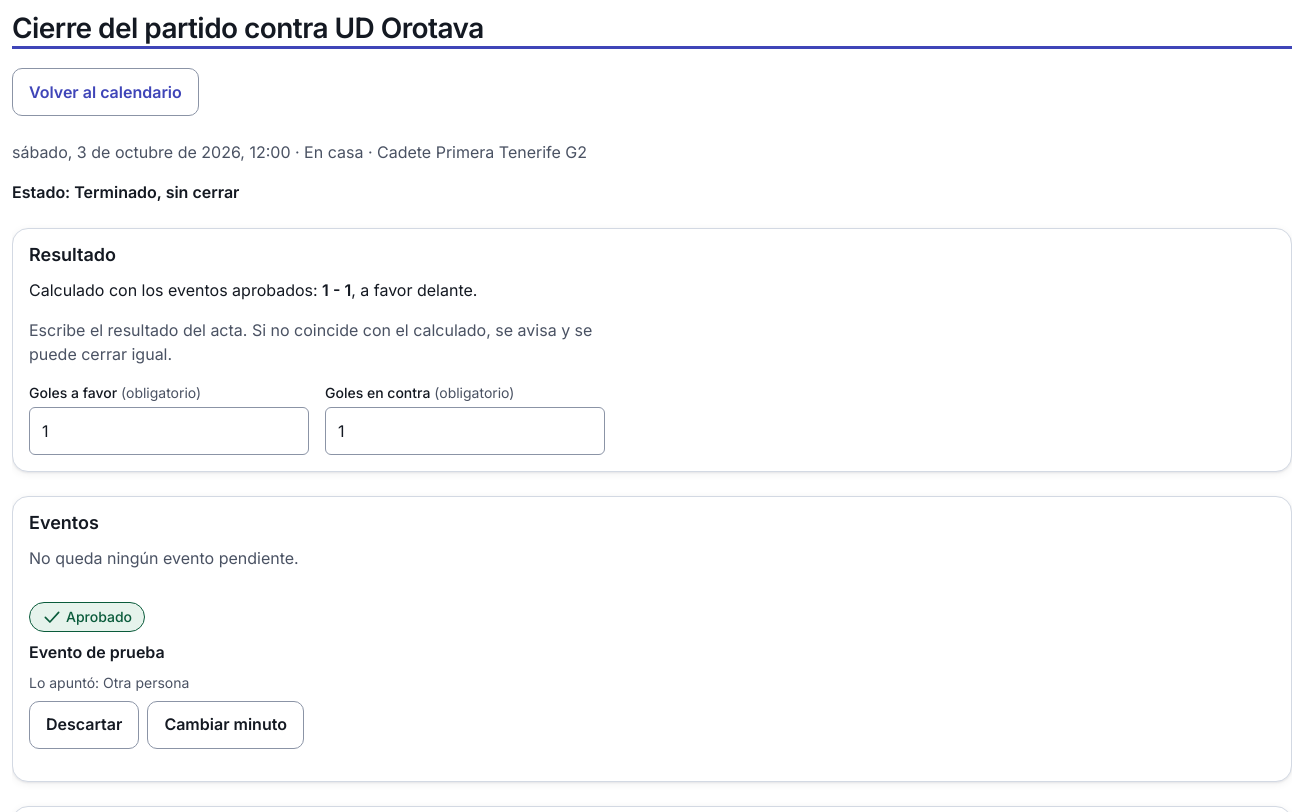
A13 · Panel de eventos (T-210b) › «Descartar» y luego «Recuperar» sobre el mismo evento
Step 1. Click the button with aria-label "Descartar: " → point(84, 725), box 29,701 -> 139,749
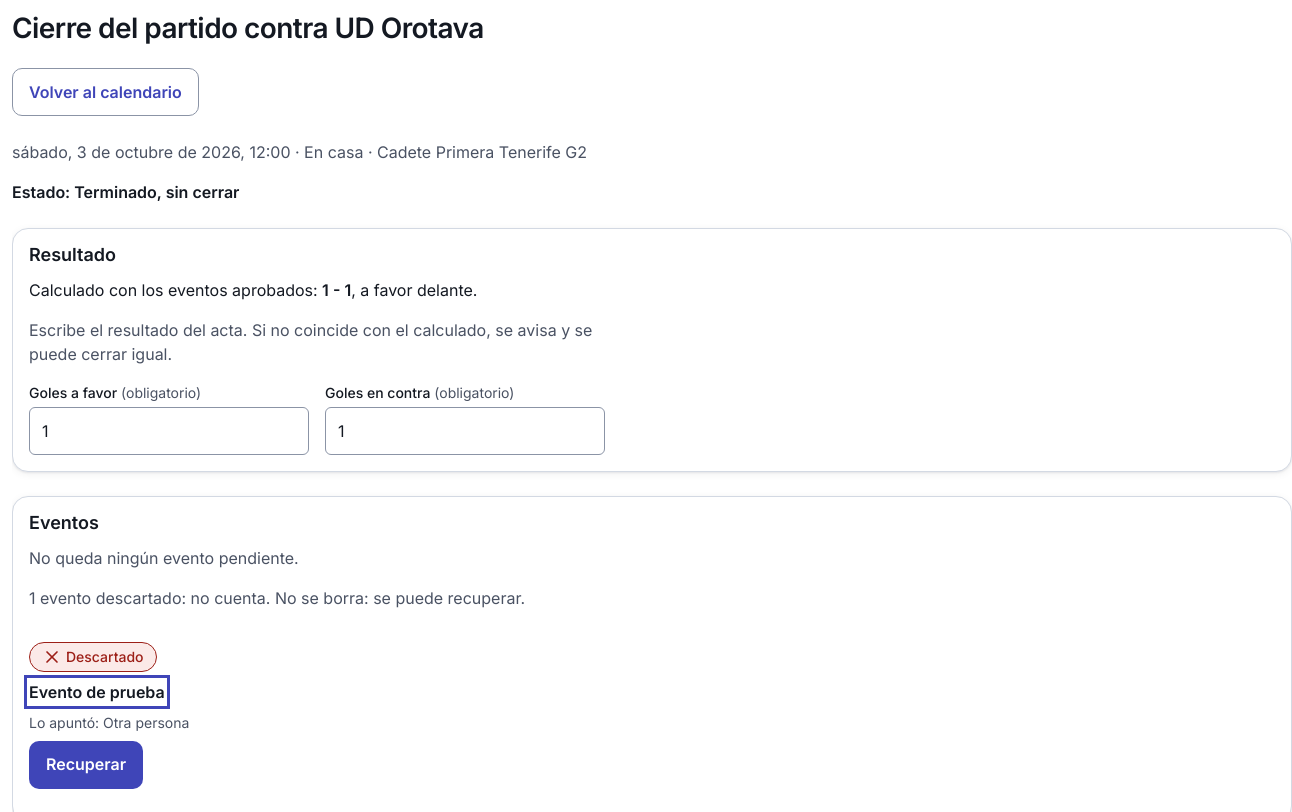
Check: the button with aria-label "Recuperar: " is shown
Check: the button with aria-label "Recuperar: " is enabled
Step 2. Click the button with aria-label "Recuperar: " → point(86, 765), box 29,741 -> 143,789
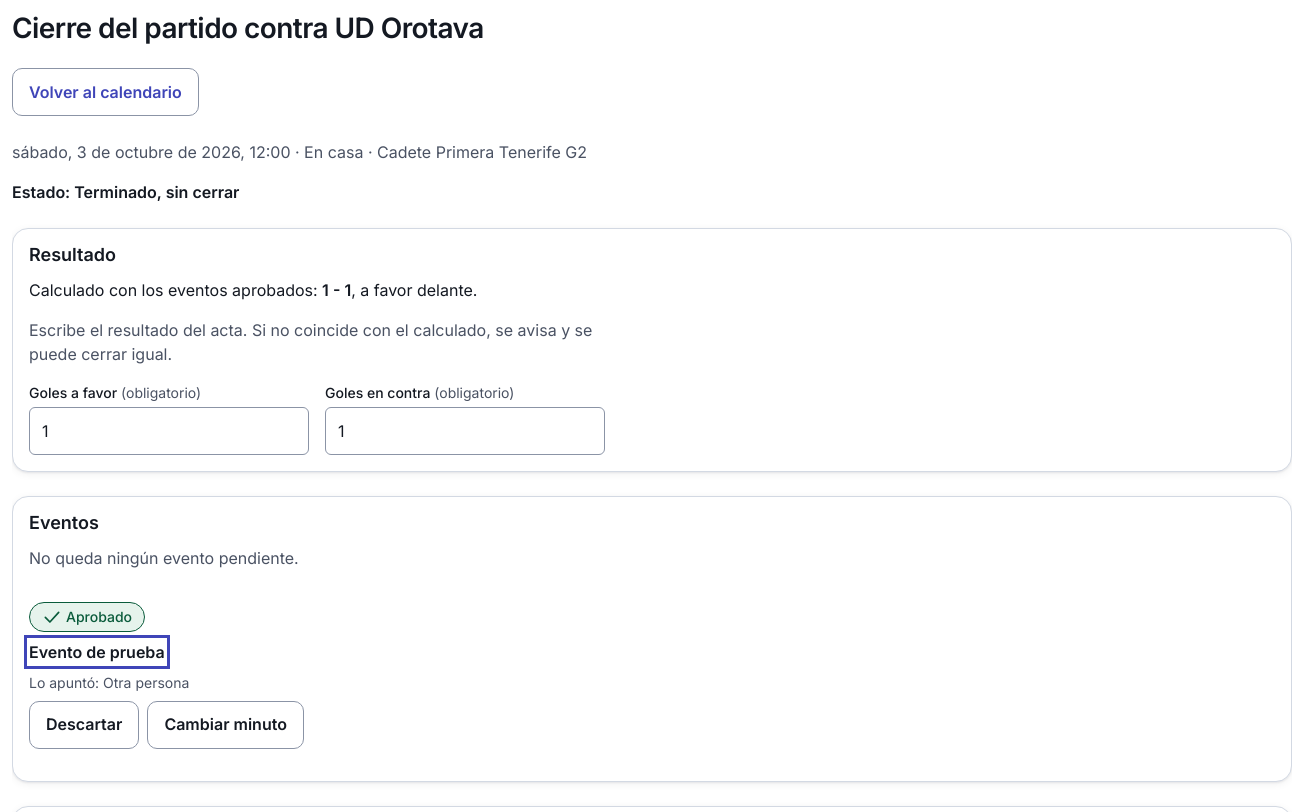
Check: the button with aria-label "Descartar: " is shown, box 29,701 -> 139,749
